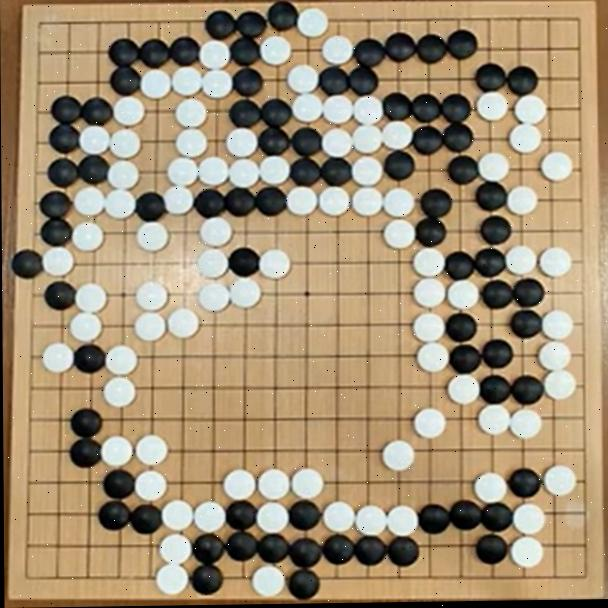corners: (16, 545, 50, 596), (562, 550, 598, 594), (28, 9, 61, 46), (557, 8, 589, 42)
